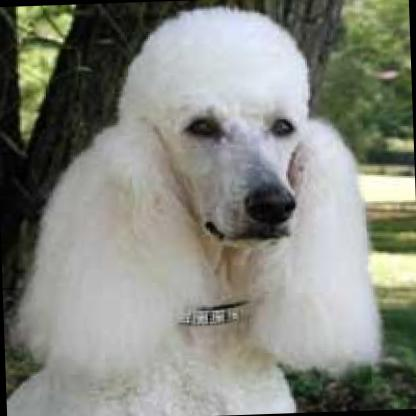miniature_poodle: (0, 0, 388, 416)
